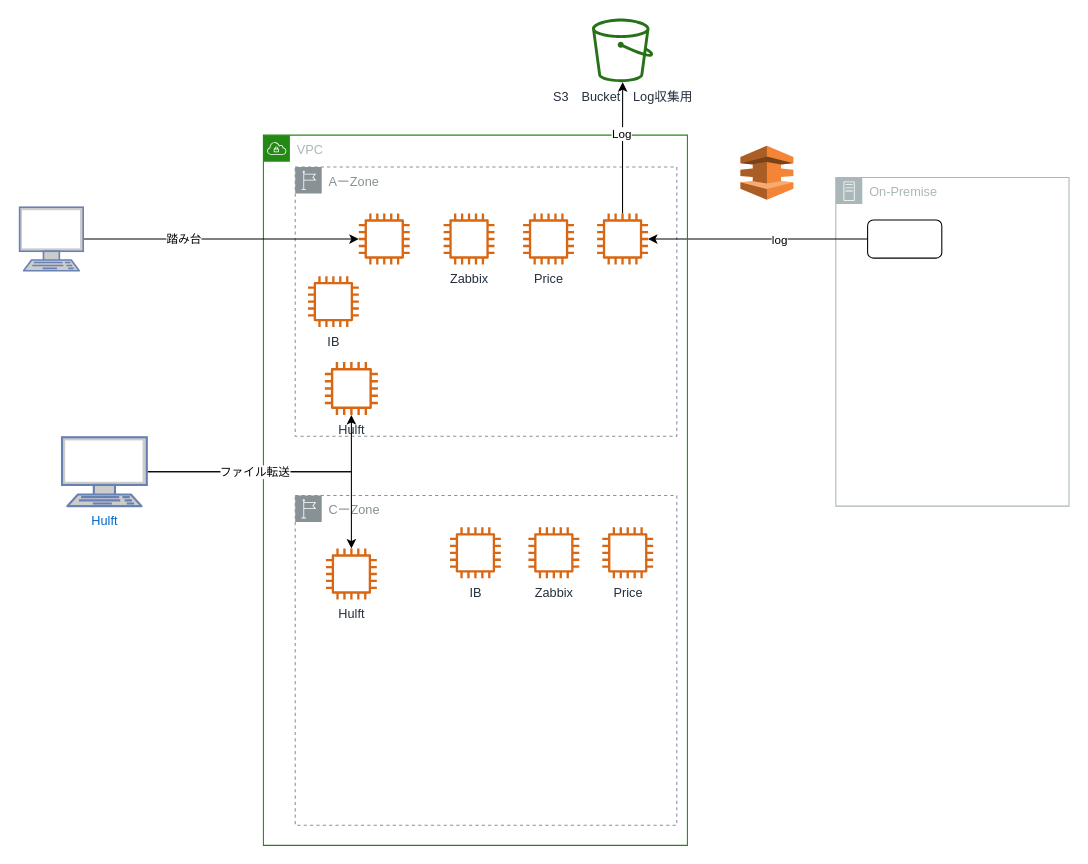
This 1088x864 diagram has some shape labels left out. Each missing label, with the centre of its shape:
AWS Direct Connect: the point at 766,172
EC2: the point at 622,238
Jump: the point at 383,238
NFS: the point at 904,238
